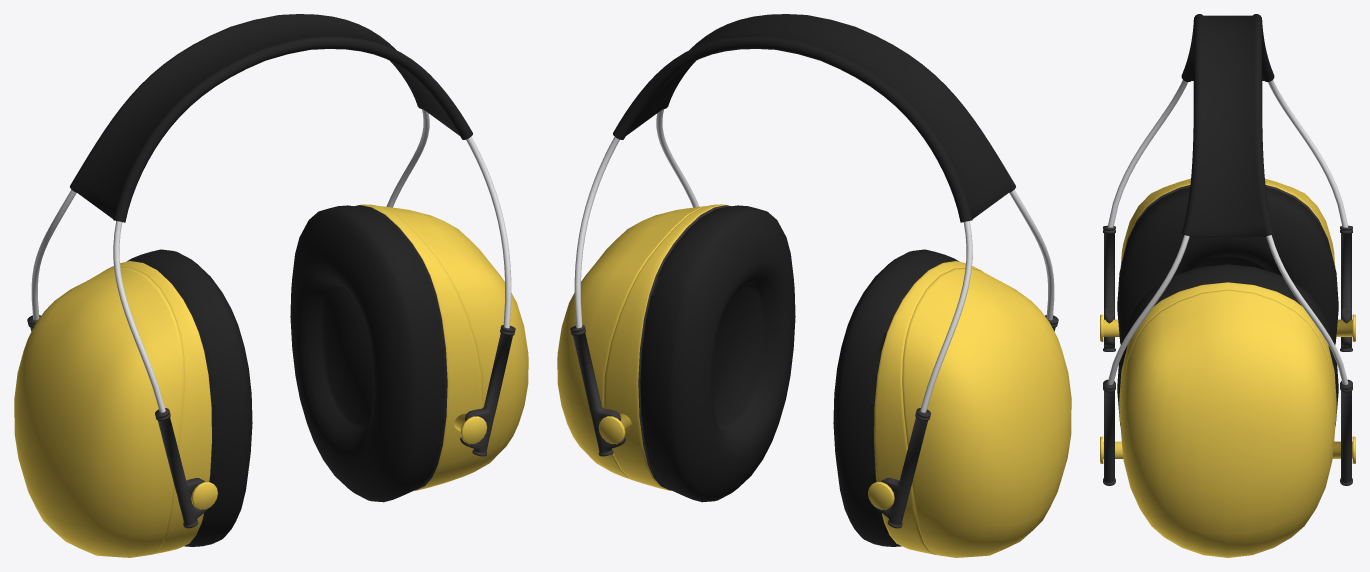
The model's file is earDefenders.fbx.
3 renders of one model, left to right at view 1: azimuth 30°, elevation 25°; view 2: azimuth 150°, elevation 25°; view 3: azimuth 270°, elevation 25°, orthographic. The views are drawn at different scales.
Parts seen in each view (by area): view 1: earDefenders; view 2: earDefenders; view 3: earDefenders.
Boxes of the visible parts, left/top/right/bottom form: earDefenders: left=14, top=14, right=528, bottom=557; earDefenders: left=557, top=14, right=1071, bottom=557; earDefenders: left=1100, top=14, right=1355, bottom=557.
Bounding box in the file's own units: 508 × 505 × 261.
